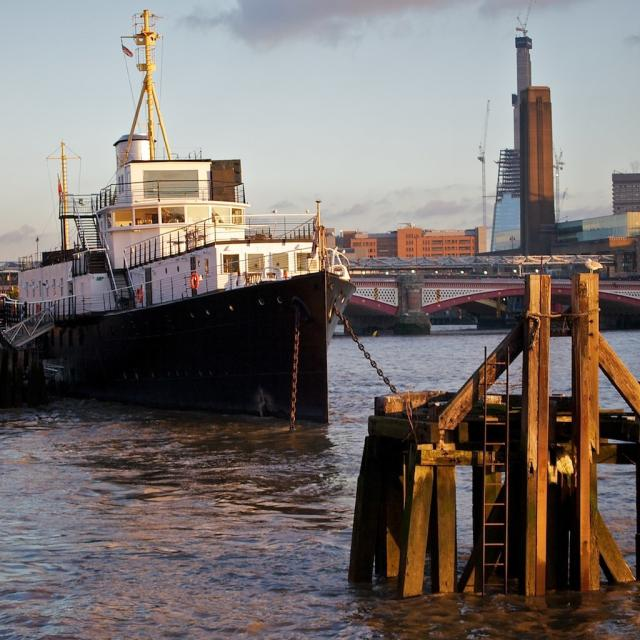Boat: (0, 9, 358, 418)
